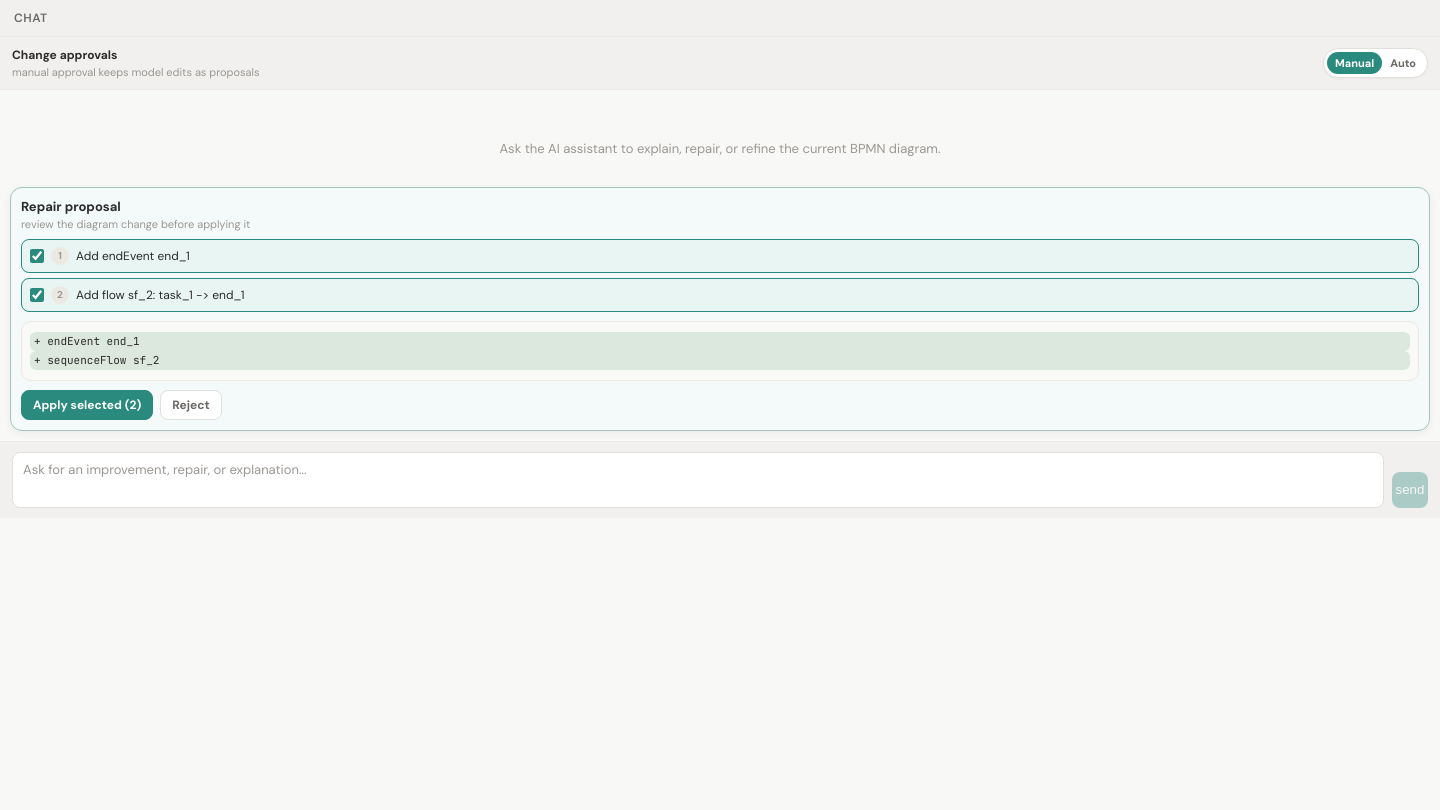
subset acceptance › reports a dependency the selection leaves unmet
# deselect the add_node the flow depends on
Click the checkbox labelled "1 Add endEvent end_1" at (37, 256), box [30,249,44,263]
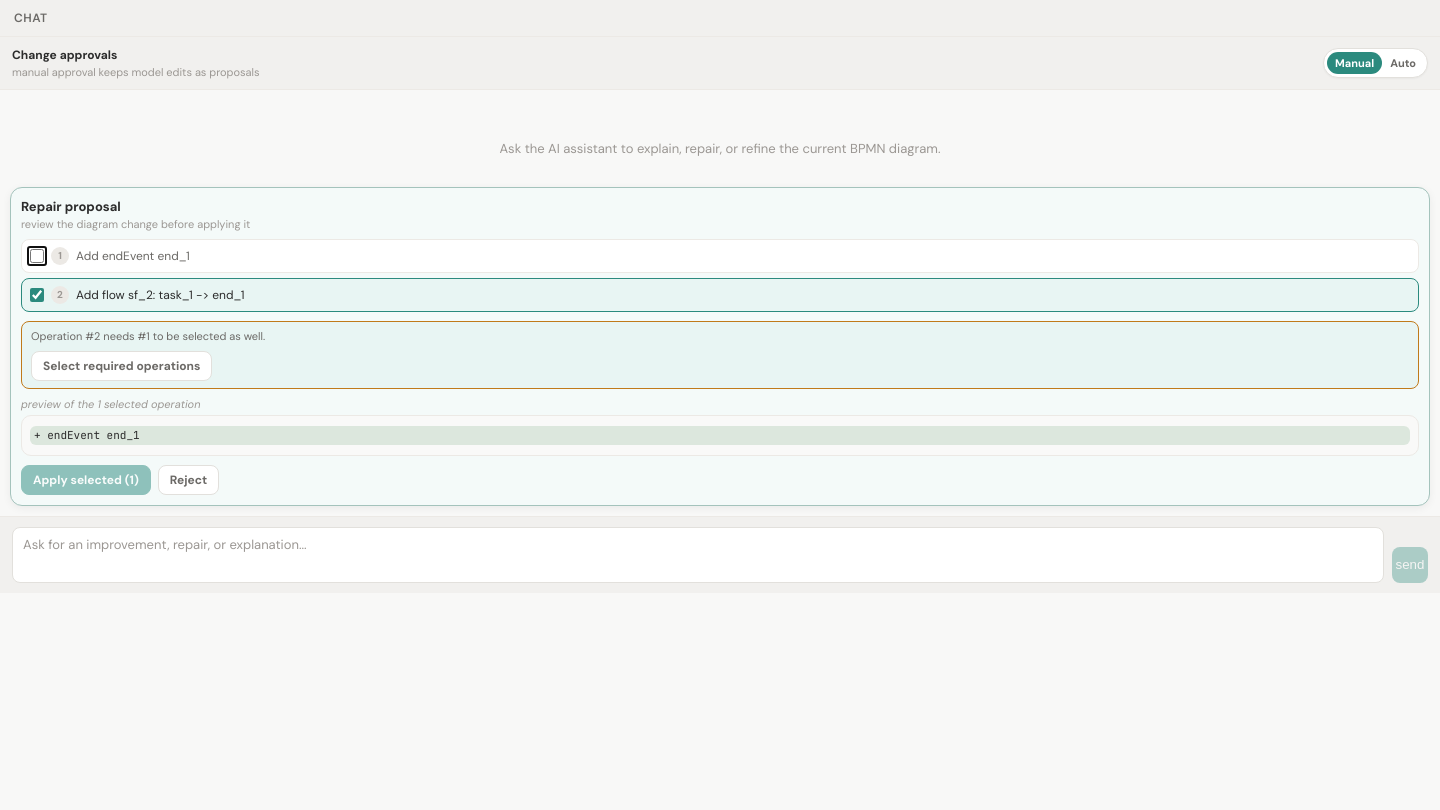
Now the text "Operation #2 needs #1 to be selected as well." is shown, box [31,329,265,343]
